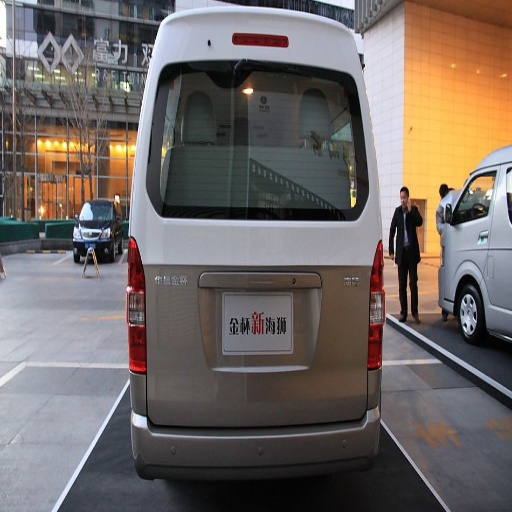back_bumper: (132, 368, 386, 480)
back_left_light: (126, 238, 145, 374)
trunk: (143, 220, 372, 425)
